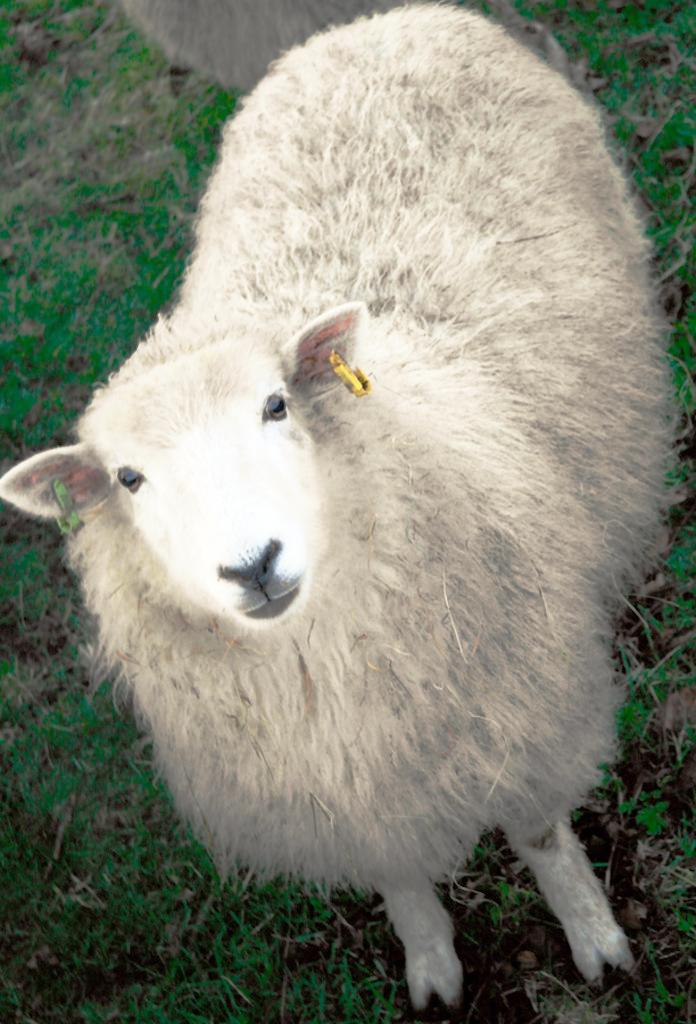Sheep: (65, 37, 658, 878)
